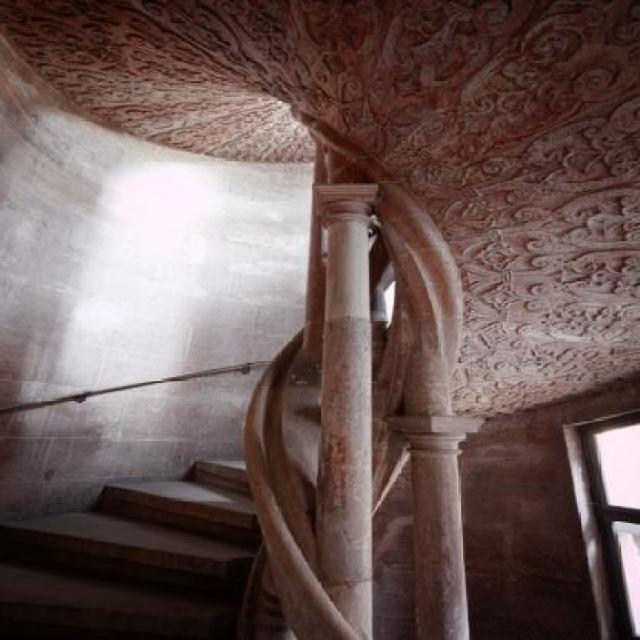stair: (0, 452, 265, 640)
